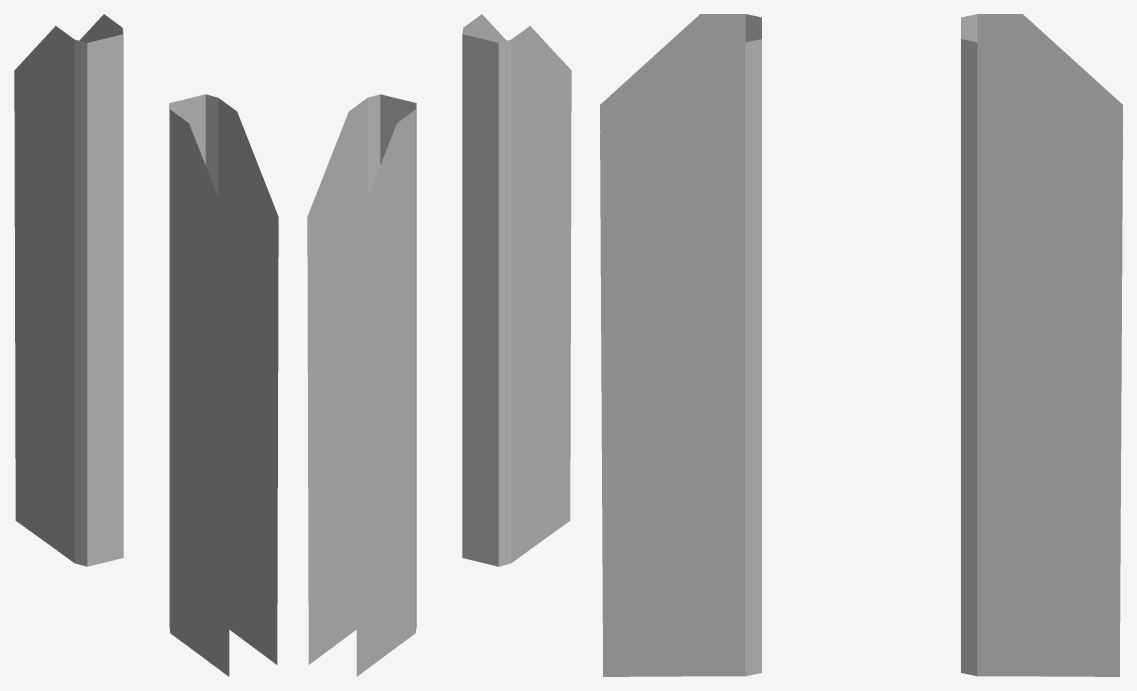
File: SM_DoorMidOpen.fbx
The picture shows the model from 3 angles, left to right: view 1: azimuth 30°, elevation 25°; view 2: azimuth 150°, elevation 25°; view 3: azimuth 270°, elevation 25°; orthographic projection. The views are drawn at different scales.
Visible parts, largest first — view 1: Cube.012; view 2: Cube.012; view 3: Cube.012.
Part boxes in pixels (bbox=[...]): Cube.012: bbox=[14, 14, 278, 676]; Cube.012: bbox=[307, 14, 571, 676]; Cube.012: bbox=[600, 14, 1122, 676].
Bounding box in the file's own units: 122 × 15.68 × 163.
